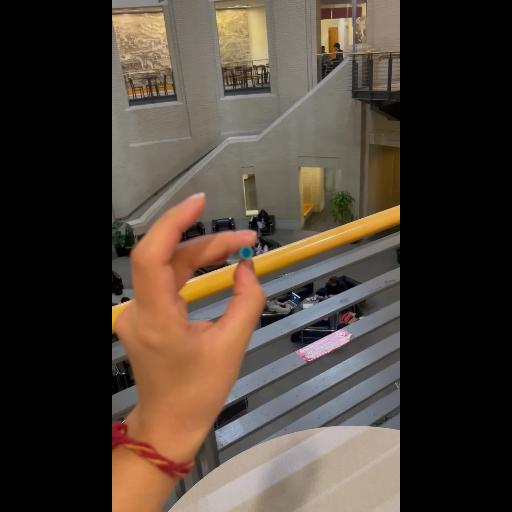straw: (230, 236, 262, 278)
